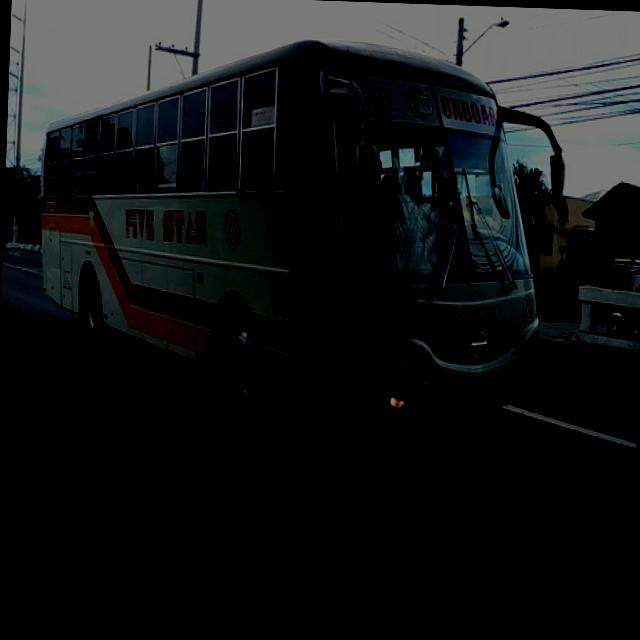Vehicle: (34, 33, 570, 440), (605, 309, 640, 337)
